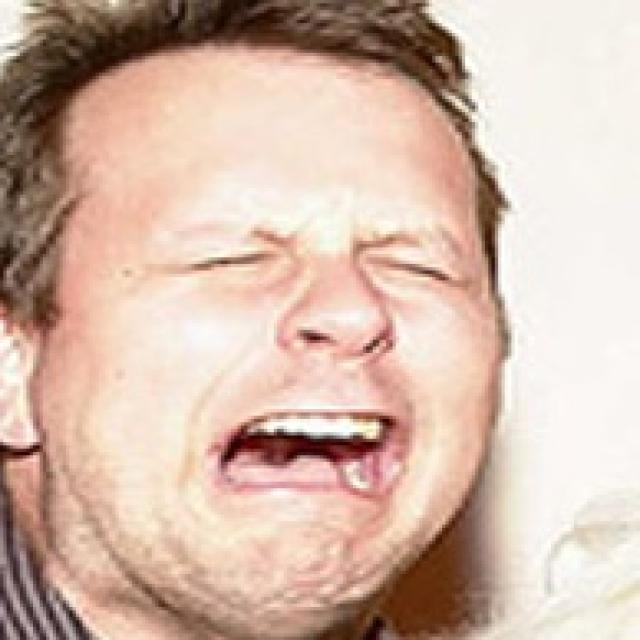Depress: (26, 46, 505, 630)
